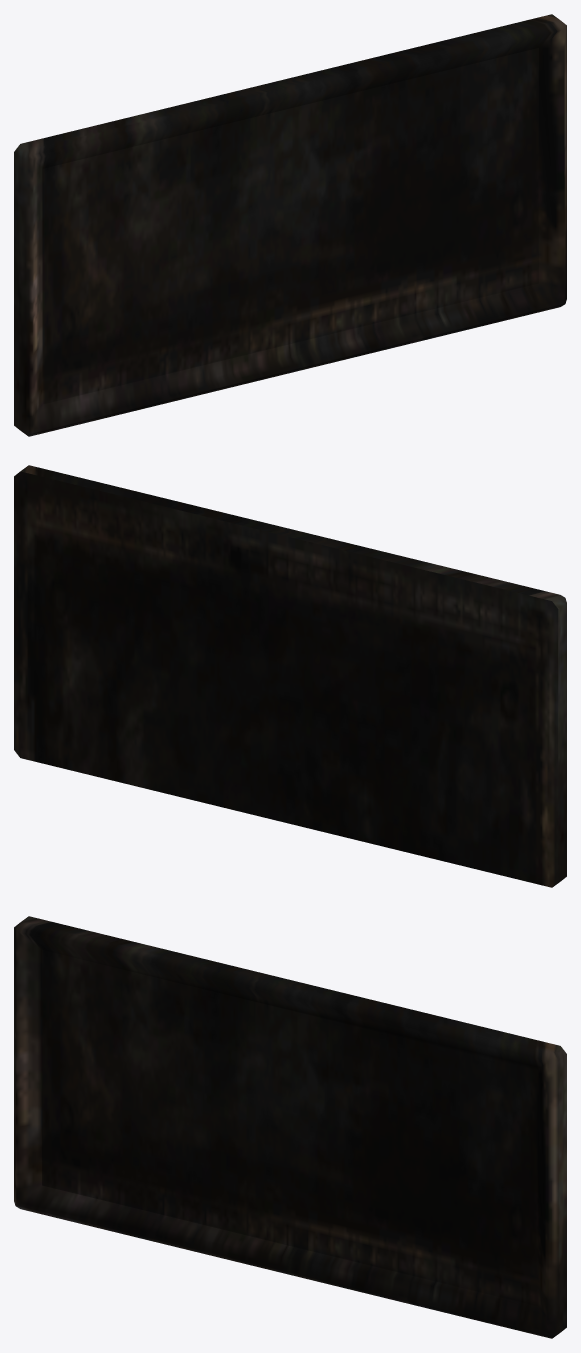
File: sign_broken01.dae
3 renders of one model, top to bottom at view 1: azimuth 30°, elevation 25°; view 2: azimuth 150°, elevation 25°; view 3: azimuth 330°, elevation 25°, orthographic.
Visible parts, largest first — view 1: Box02; view 2: Box02; view 3: Box02.
Part boxes in pixels (bbox=[...]): Box02: bbox=[14, 14, 566, 436]; Box02: bbox=[14, 465, 566, 887]; Box02: bbox=[14, 916, 566, 1338].
Size of the model in its own units: 0.6037 by 0.0235 by 0.3038.
